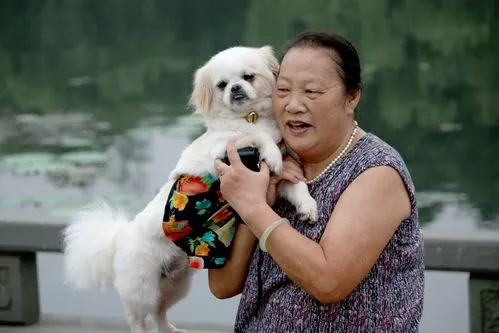withoutmask: (272, 37, 364, 157)
